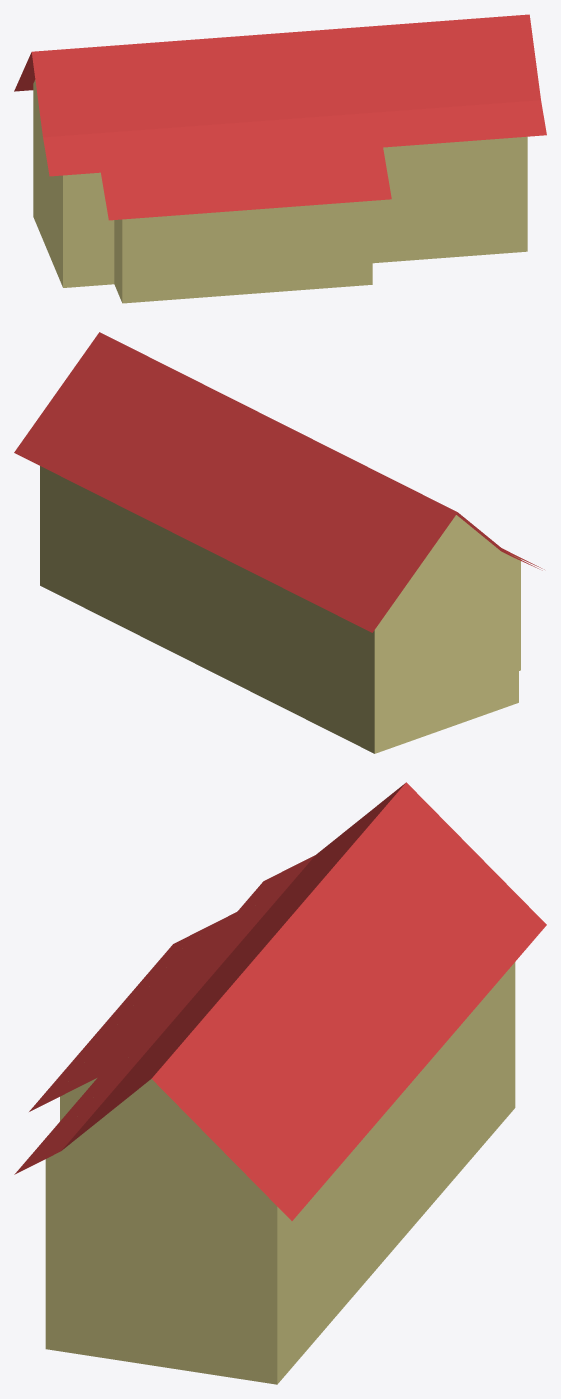
3 renders of one model, top to bottom at view 1: azimuth 30°, elevation 25°; view 2: azimuth 150°, elevation 25°; view 3: azimuth 270°, elevation 25°, orthographic. The views are drawn at different scales.
Size of the model in its own units: 32.64 by 21.62 by 13.32.
